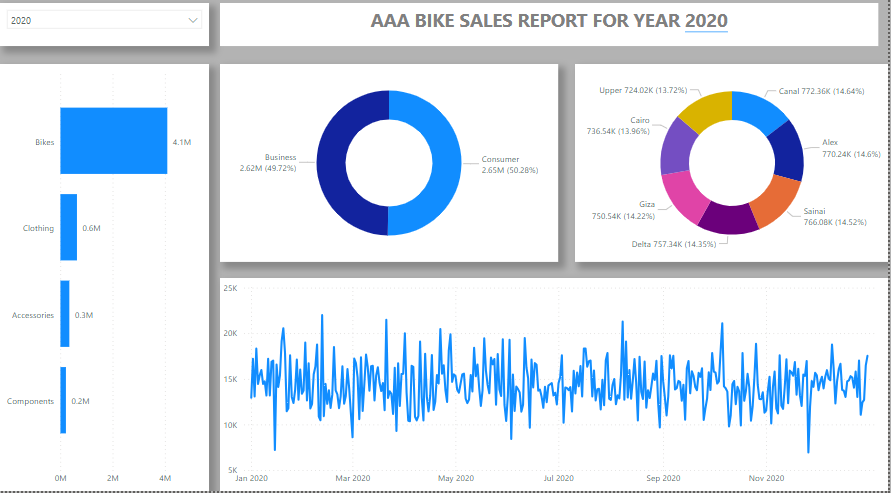

The page's visual inventory and layout, read from the dashboard file:
{"tool":"powerbi","page":{"name":"Page 1","canvas":[1280,720],"ordinal":0},"visuals":[{"type":"clusteredBarChart","fields":{"Category":["Allsales.Category","Allsales.Product"],"Y":["Sum(Allsales.Net Sales)"]},"box":[0,105.1,301,614.9],"z":0},{"type":"slicer","fields":{"Values":["Allsales.Date.Variation.Date Hierarchy.Year"]},"box":[0,17.3,301,61.9],"z":1000},{"type":"donutChart","fields":{"Y":["Sum(Allsales.Net Sales)"],"Category":["Allsales.Segment"]},"box":[316.8,105.1,486.7,285.1],"z":2000},{"type":"donutChart","fields":{"Y":["Sum(Allsales.Net Sales)"],"Category":["Allsales.Region"]},"box":[828,105.1,452.2,285.1],"z":3000},{"type":"lineChart","fields":{"Category":["Allsales.Date"],"Y":["Sum(Allsales.Net Sales)"]},"box":[316.8,413.3,963.4,306.7],"z":4000},{"type":"textbox","box":[316.8,17.3,947.5,61.9],"z":5000}]}

Visuals, with their boxes in screenshot pixels (x1, y1, x2, y2), scaled from the page's 1280x720 canvas onto the 891x493 screenshot:
clusteredBarChart - Allsales.Category x Allsales.Product: {"left": 0, "top": 72, "right": 210, "bottom": 492}
slicer - Allsales.Date.Variation.Date Hierarchy.Year: {"left": 0, "top": 12, "right": 210, "bottom": 54}
donutChart - Sum(Allsales.Net Sales) x Allsales.Segment: {"left": 221, "top": 72, "right": 559, "bottom": 267}
donutChart - Sum(Allsales.Net Sales) x Allsales.Region: {"left": 576, "top": 72, "right": 890, "bottom": 267}
lineChart - Allsales.Date x Sum(Allsales.Net Sales): {"left": 221, "top": 283, "right": 890, "bottom": 492}
textbox: {"left": 221, "top": 12, "right": 880, "bottom": 54}
